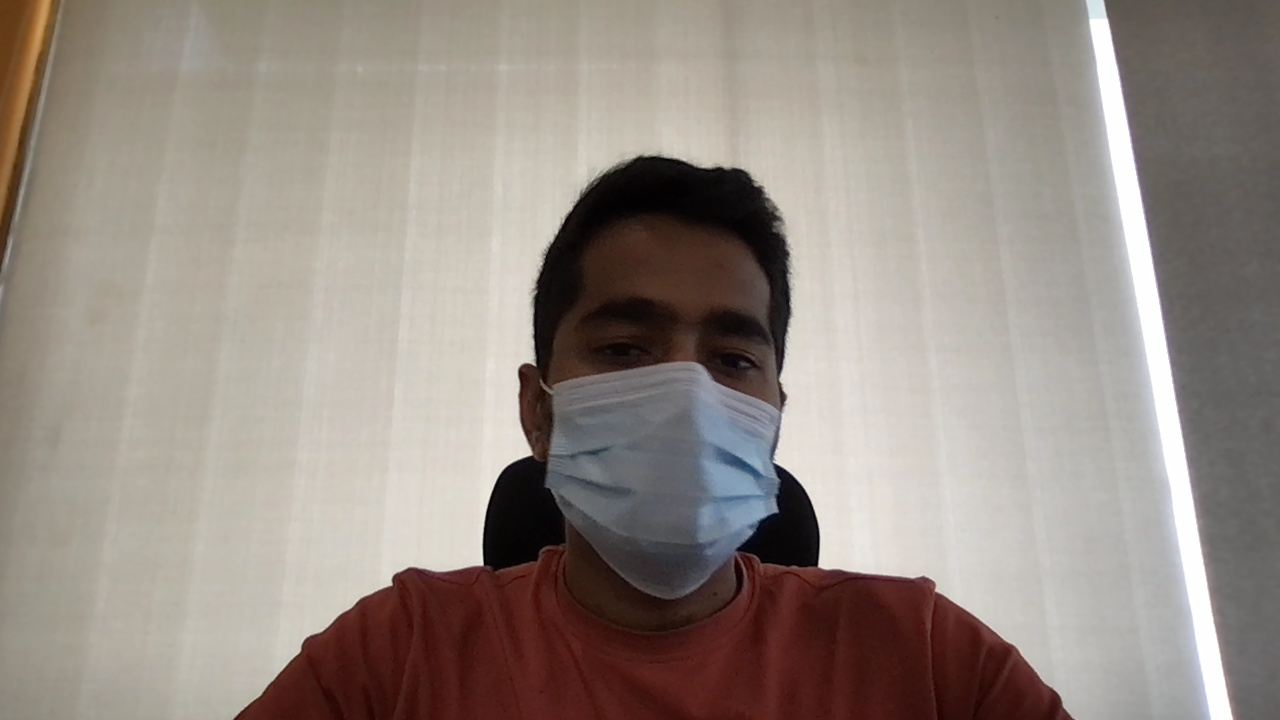mask: (553, 361, 778, 600)
